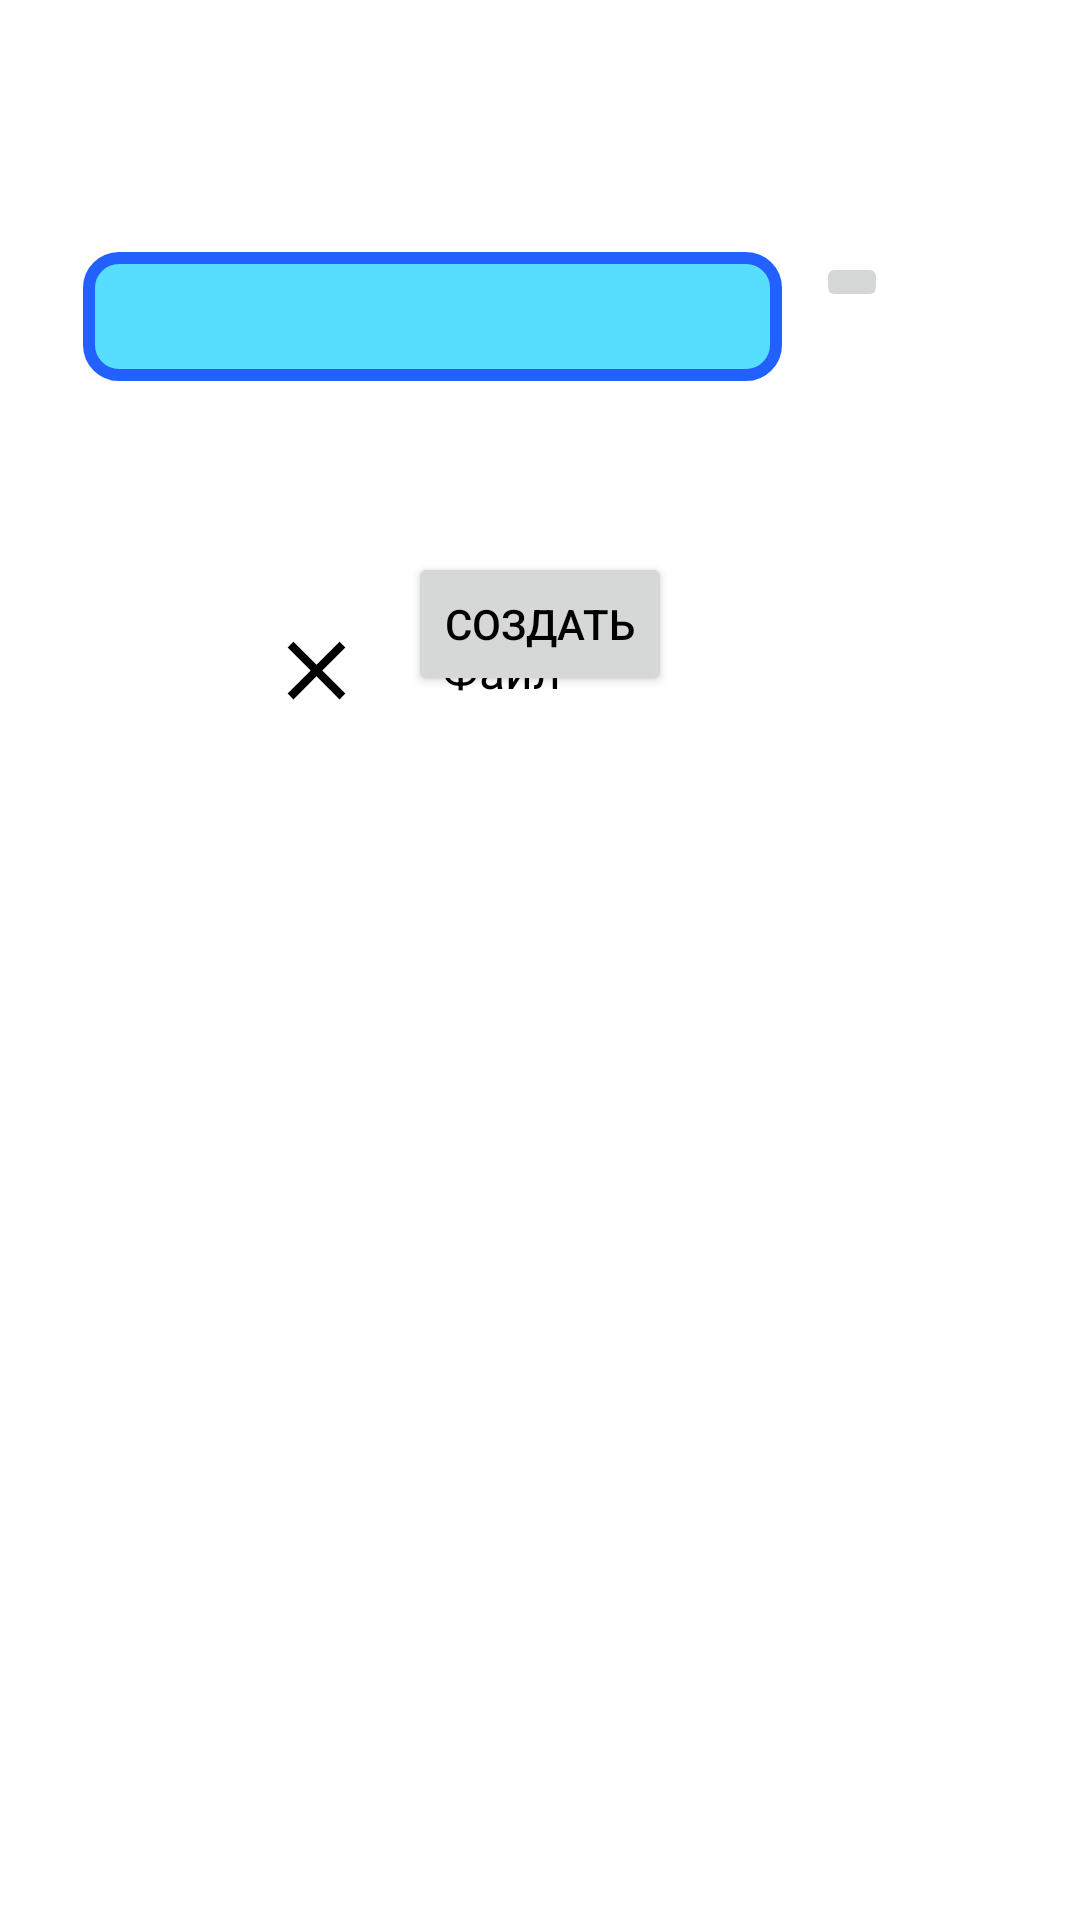

Where to tap for icons on this 1080x1920 app screen, as [x,y]:
close: [316,671]
